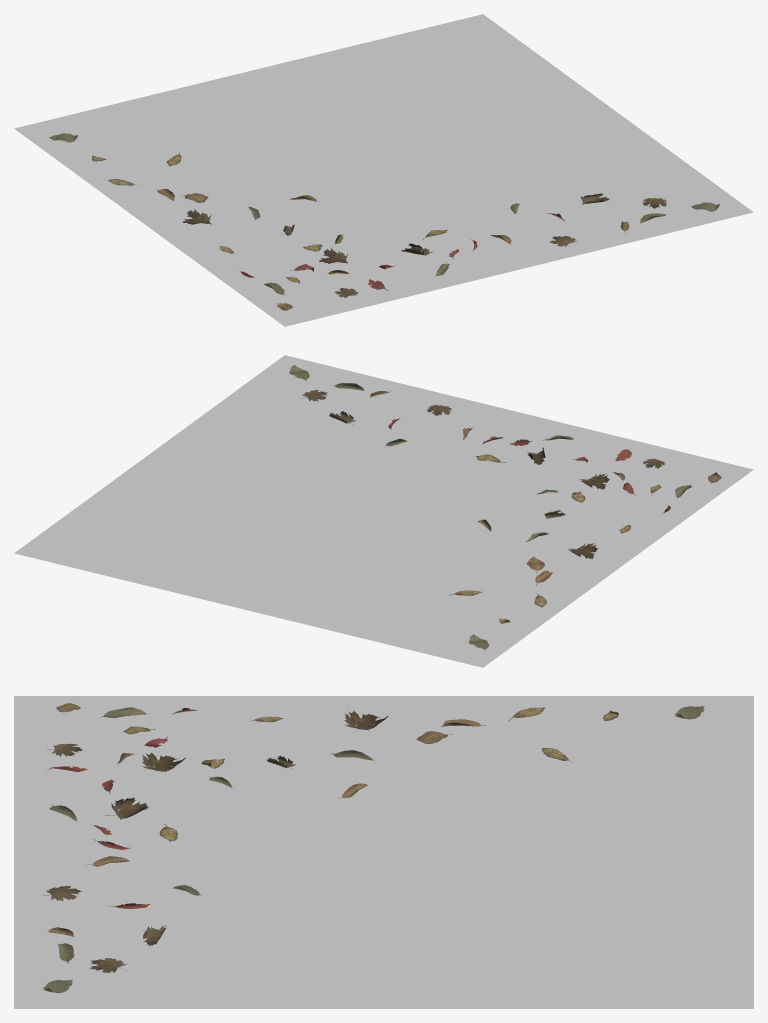
File: Leaves16.FBX
3 renders of one model, top to bottom at view 1: azimuth 30°, elevation 25°; view 2: azimuth 150°, elevation 25°; view 3: azimuth 270°, elevation 25°, orthographic. The views are drawn at different scales.
Parts seen in each view (by area): view 1: Leaves16_Decal, Leaves16; view 2: Leaves16_Decal, Leaves16; view 3: Leaves16_Decal, Leaves16.
Part boxes in pixels (left/top/right/bottom): Leaves16_Decal: left=14, top=14, right=753, bottom=326; Leaves16: left=49, top=133, right=719, bottom=310; Leaves16_Decal: left=14, top=355, right=753, bottom=667; Leaves16: left=289, top=365, right=721, bottom=650; Leaves16_Decal: left=14, top=696, right=753, bottom=1008; Leaves16: left=43, top=703, right=704, bottom=992.
Bounding box in the file's own units: 2.2 × 0.0453 × 2.2.
